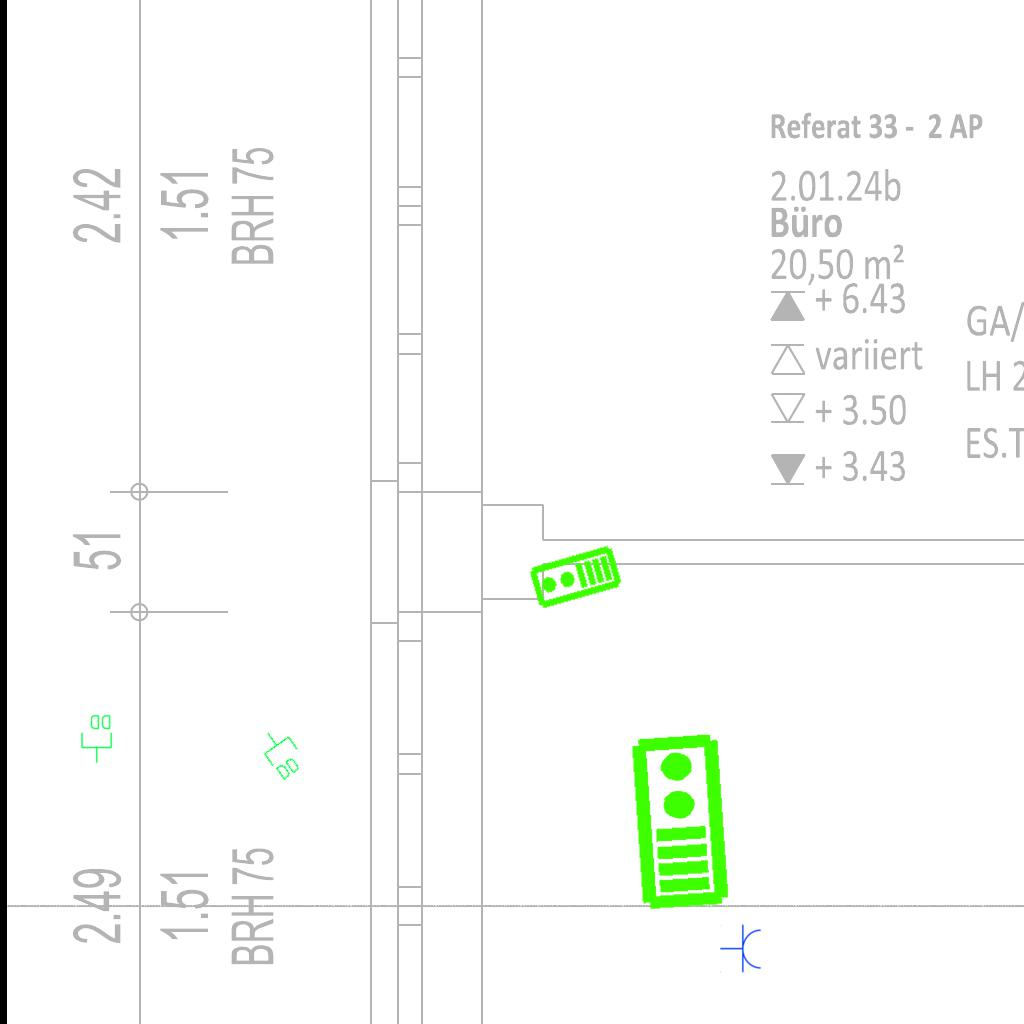Datenanschluss_zweifach: (252, 722, 311, 784), (80, 713, 114, 764)
Gegensprechanlage_mit_Video: (624, 729, 733, 913), (526, 543, 625, 613)
Schukosteckdose_einfach: (720, 924, 763, 974)
